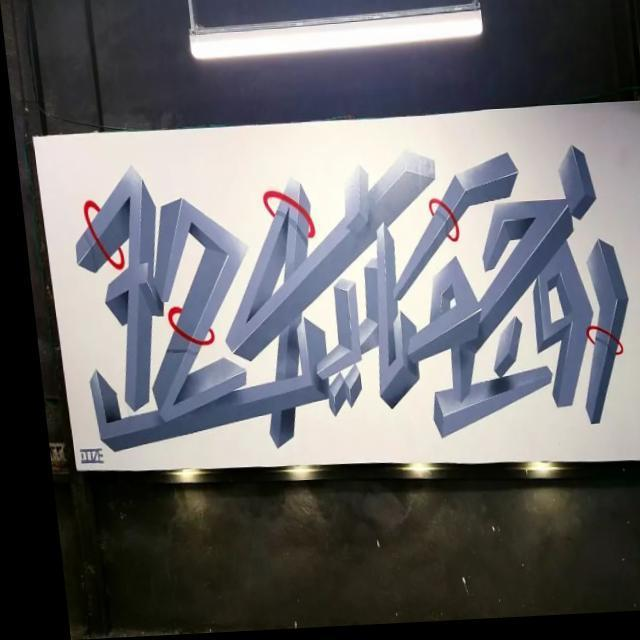-: (46, 128, 640, 476), (65, 443, 98, 468)
